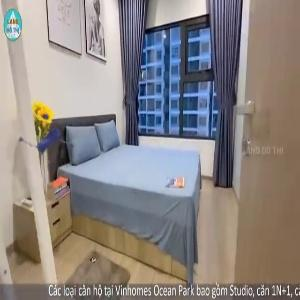drone: (6, 94, 87, 175)
